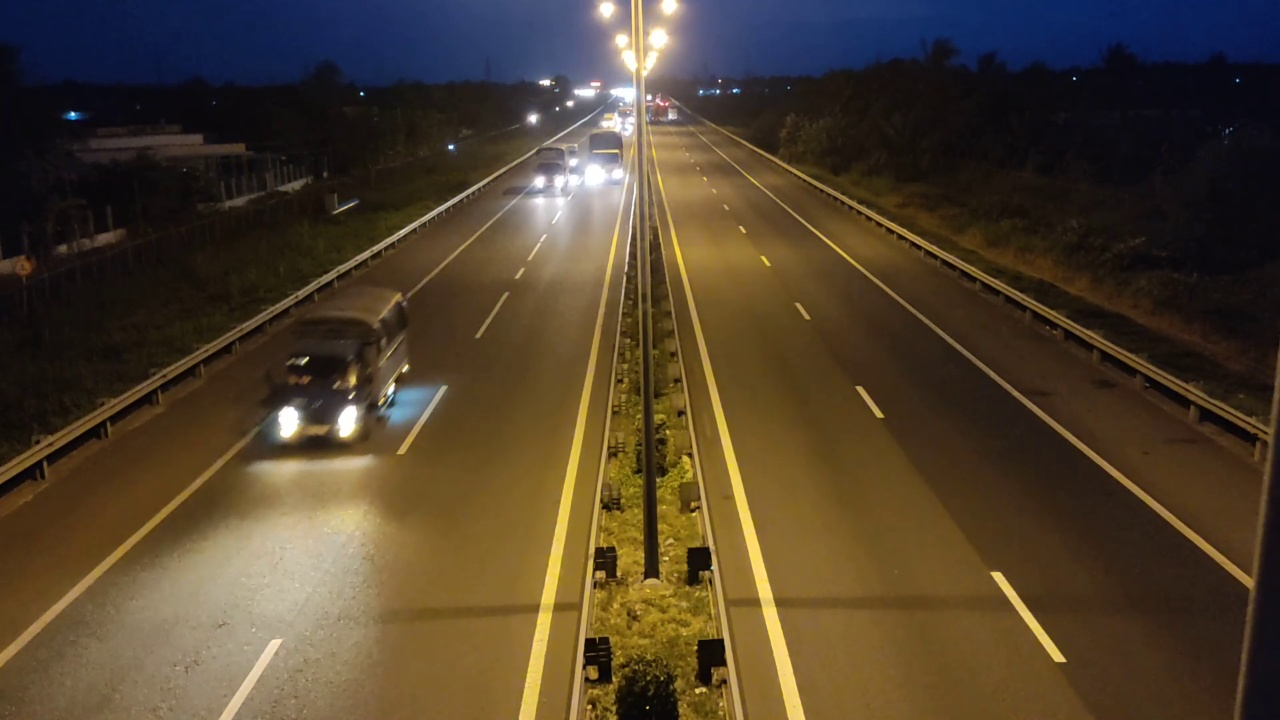truck: (266, 282, 416, 448)
